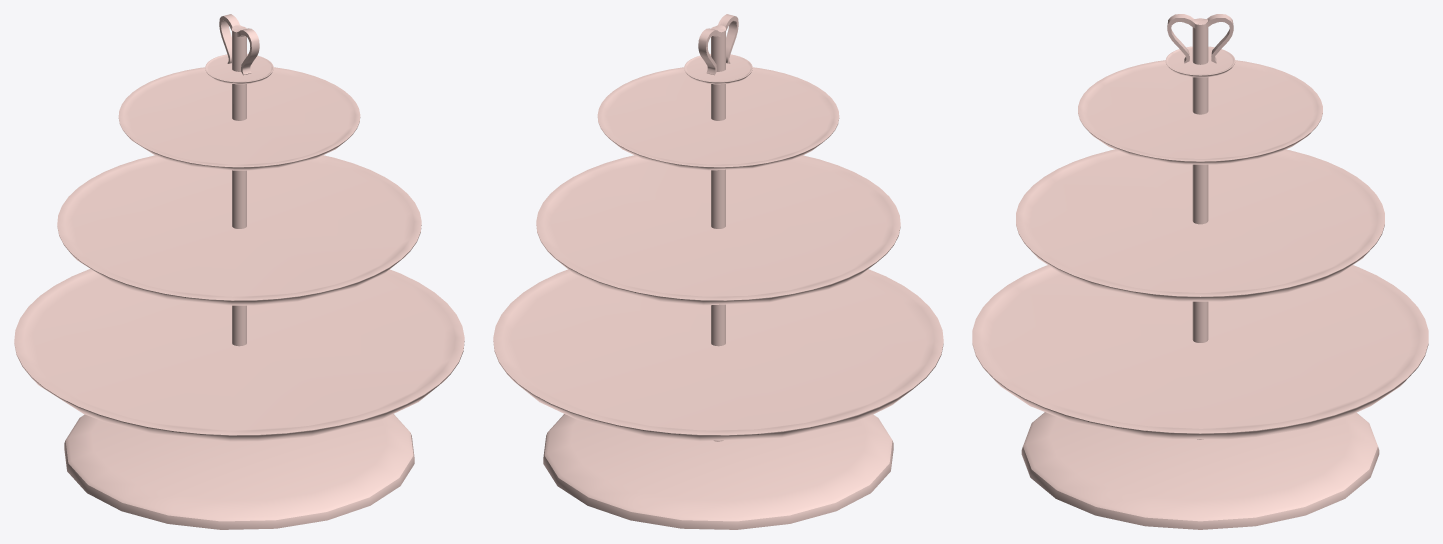
The model's file is CupcakeStand.fbx.
3 views of the same model, side by side, from view 1: azimuth 30°, elevation 25°; view 2: azimuth 150°, elevation 25°; view 3: azimuth 270°, elevation 25° (orthographic).
Parts seen in each view (by area): view 1: polySurface711; view 2: polySurface711; view 3: polySurface711.
Part boxes in pixels (box(x1,y1,x2,y2)): polySurface711: box(14, 14, 464, 529); polySurface711: box(493, 14, 943, 529); polySurface711: box(972, 14, 1428, 529).
Size of the model in its own units: 60.17 by 63.66 by 60.05.
